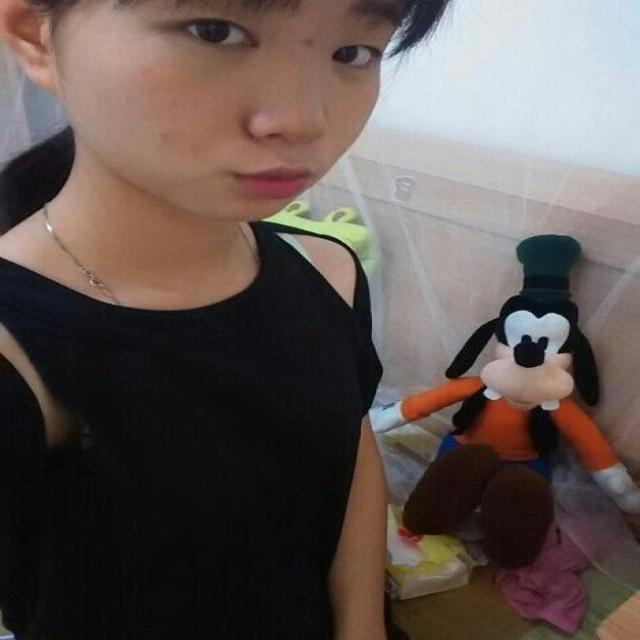short sleeve dress: (3, 222, 402, 638)
